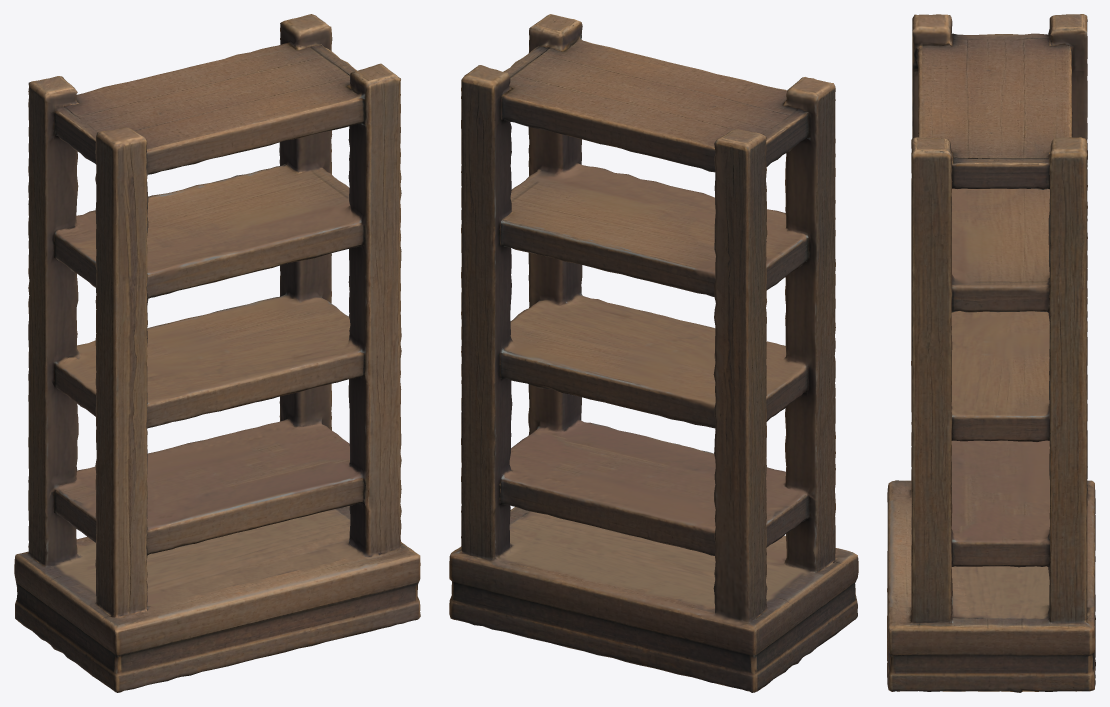
Rendered from Furn_LinenShelf.fbx.
3 renders of one model, left to right at view 1: azimuth 30°, elevation 25°; view 2: azimuth 150°, elevation 25°; view 3: azimuth 270°, elevation 25°, orthographic.
Parts seen in each view (by area): view 1: texture_mapping; view 2: texture_mapping; view 3: texture_mapping.
Boxes of the visible parts, x1,y1,x2,y2 form: texture_mapping: (14, 14, 420, 692); texture_mapping: (449, 14, 858, 692); texture_mapping: (887, 14, 1095, 692).
Size of the model in its own units: 0.5988 by 0.3537 by 1.
Materials: 1 (1 with a texture image).
